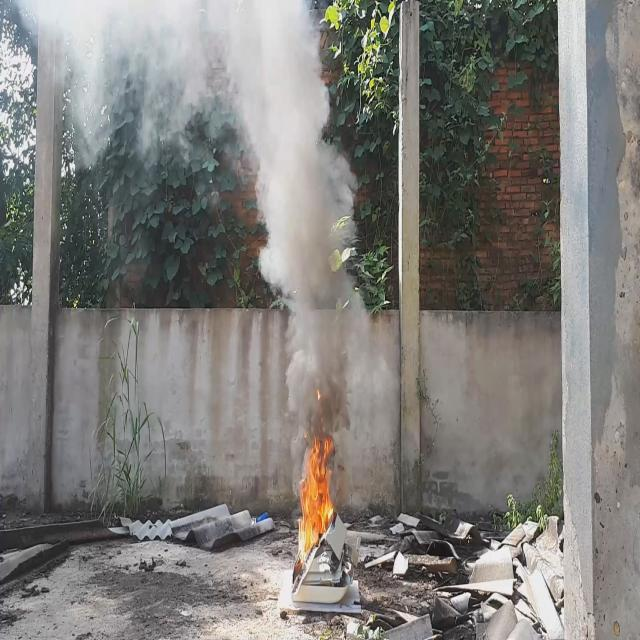Fire: (298, 432, 338, 567)
Smoke: (22, 0, 375, 464)
